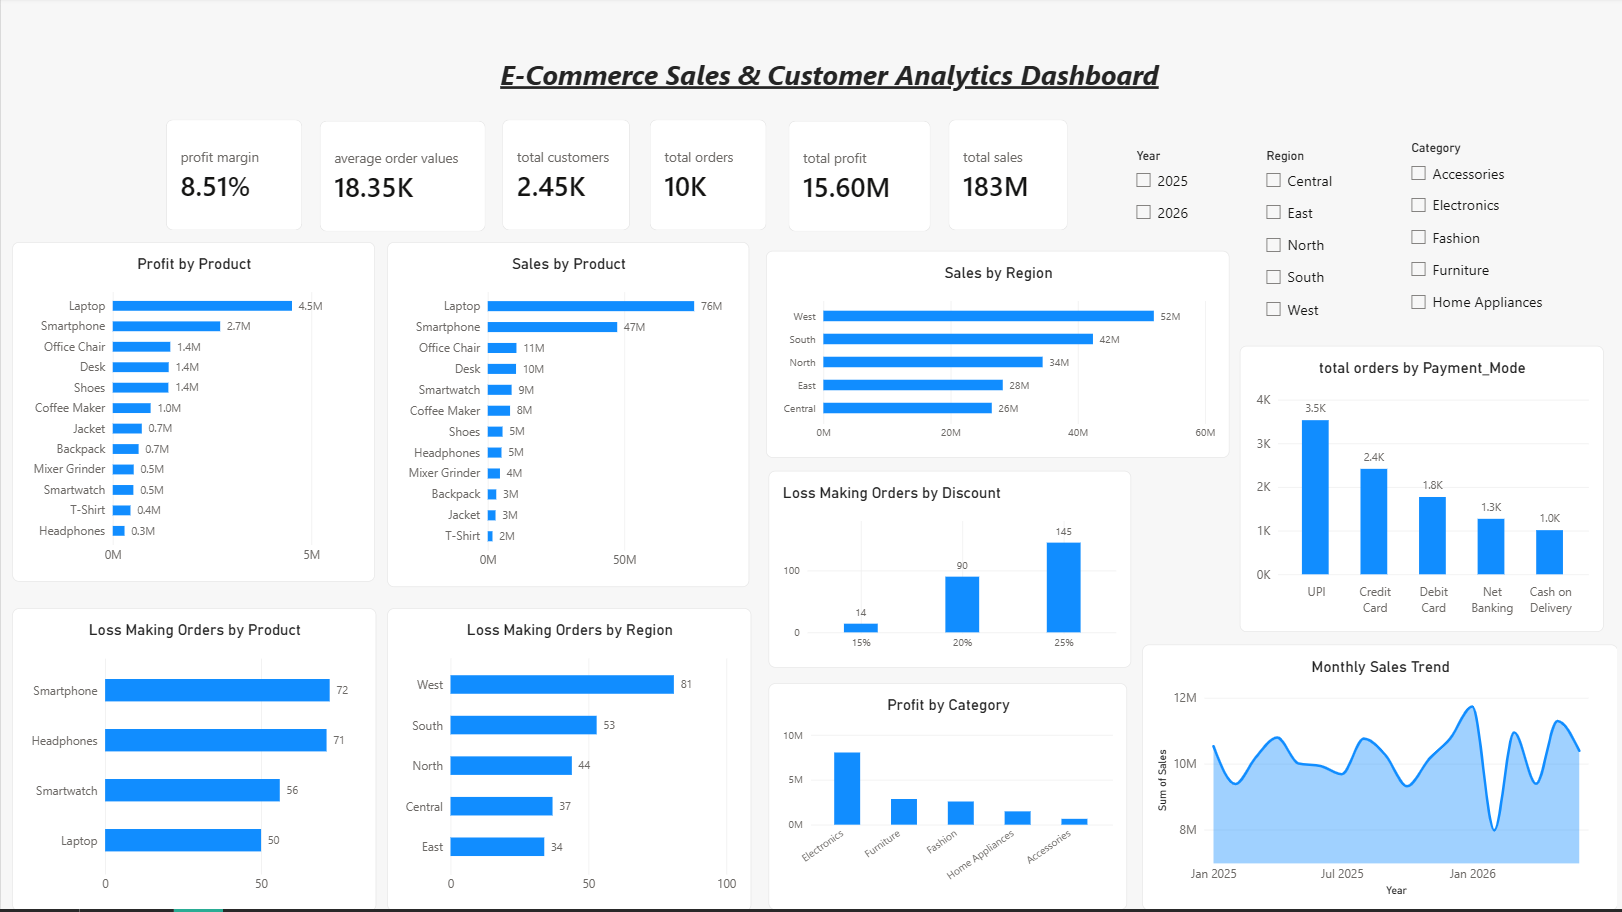

This screenshot's page, from the dashboard's own definition file:
{"tool":"powerbi","page":{"name":"Page 1","canvas":[1920,1080],"ordinal":0},"visuals":[{"type":"cardVisual","fields":{"Data":["measures_.total_customers"]},"box":[593.3,145,151.7,131.7],"z":0},{"type":"cardVisual","fields":{"Data":["measures_.total_orders"]},"box":[766.7,145,138.3,131.7],"z":1000},{"type":"cardVisual","fields":{"Data":["measures_.total_average_values"]},"box":[376.7,146.7,196.7,131.7],"z":2000},{"type":"cardVisual","fields":{"Data":["measures_.profit_margin"]},"box":[195,145,161.7,131.7],"z":3000},{"type":"cardVisual","fields":{"Data":["measures_.total_profit"]},"box":[931.7,146.7,168.3,131.7],"z":4000},{"type":"cardVisual","fields":{"Data":["measures_.total_sales"]},"box":[1120,145,141.7,131.7],"z":5000},{"type":"lineChart","title":"Monthly Sales Trend","fields":{"Category":["ecommerce_sales_cleaned2.Order_Date.Variation.Date Hierarchy.Year","ecommerce_sales_cleaned2.Order_Date.Variation.Date Hierarchy.Month"],"Y":["Sum(ecommerce_sales_cleaned2.Sales)"]},"box":[1350,766,562,314],"z":6000},{"type":"clusteredBarChart","title":" Sales by Region","fields":{"Category":["ecommerce_sales_cleaned2.Region"],"Y":["Sum(ecommerce_sales_cleaned2.Sales)"]},"box":[904,300,548.3,245],"z":7000},{"type":"clusteredBarChart","title":"Sales by Product","fields":{"Category":["ecommerce_sales_cleaned2.Product"],"Y":["Sum(ecommerce_sales_cleaned2.Sales)"]},"box":[456,290,428,408],"z":8000},{"type":"clusteredColumnChart","title":" Profit by Category","fields":{"Category":["ecommerce_sales_cleaned2.Category"],"Y":["Sum(ecommerce_sales_cleaned2.Profit)"]},"box":[908,812,424,268],"z":9000},{"type":"clusteredBarChart","title":"Profit by Product","fields":{"Category":["ecommerce_sales_cleaned2.Product"],"Y":["Sum(ecommerce_sales_cleaned2.Profit)"]},"box":[14,290,428.8,401.2],"z":10000},{"type":"clusteredColumnChart","fields":{"Category":["ecommerce_sales_cleaned2.Payment_Mode"],"Y":["measures_.total_orders"]},"box":[1464,412,430,338],"z":11000},{"type":"clusteredBarChart","fields":{"Category":["ecommerce_sales_cleaned2.Product"],"Y":["measures_.Loss Making Orders"]},"box":[14,722,430,358],"z":12000},{"type":"clusteredBarChart","fields":{"Category":["ecommerce_sales_cleaned2.Region"],"Y":["measures_.Loss Making Orders"]},"box":[456,722,430,358],"z":13000},{"type":"clusteredColumnChart","fields":{"Category":["ecommerce_sales_cleaned2.Discount"],"Y":["measures_.Loss Making Orders"]},"box":[908,560,428.6,232.9],"z":14000},{"type":"slicer","fields":{"Values":["ecommerce_sales_cleaned2.Order_Date.Variation.Date Hierarchy.Year"]},"box":[1335,178.3,150,118.6],"z":15000},{"type":"slicer","fields":{"Values":["ecommerce_sales_cleaned2.Region"]},"box":[1488.3,178.3,150,233],"z":16000},{"type":"slicer","fields":{"Values":["ecommerce_sales_cleaned2.Category"]},"box":[1660,170,200,253.3],"z":17000},{"type":"textbox","box":[404,70,1152,60],"z":18000}]}

Visuals, with their boxes in screenshot pixels (x1, y1, x2, y2), scaled from the page's 1920x1080 canvas onto the 1622x912 screenshot:
cardVisual - measures_.total_customers: [501,122,629,234]
cardVisual - measures_.total_orders: [648,122,765,234]
cardVisual - measures_.total_average_values: [318,124,484,235]
cardVisual - measures_.profit_margin: [165,122,301,234]
cardVisual - measures_.total_profit: [787,124,929,235]
cardVisual - measures_.total_sales: [946,122,1066,234]
"Monthly Sales Trend" lineChart: [1140,647,1615,911]
" Sales by Region" clusteredBarChart: [764,253,1227,460]
"Sales by Product" clusteredBarChart: [385,245,747,589]
" Profit by Category" clusteredColumnChart: [767,686,1125,911]
"Profit by Product" clusteredBarChart: [12,245,374,584]
clusteredColumnChart - ecommerce_sales_cleaned2.Payment_Mode x measures_.total_orders: [1237,348,1600,633]
clusteredBarChart - ecommerce_sales_cleaned2.Product x measures_.Loss Making Orders: [12,610,375,911]
clusteredBarChart - ecommerce_sales_cleaned2.Region x measures_.Loss Making Orders: [385,610,748,911]
clusteredColumnChart - ecommerce_sales_cleaned2.Discount x measures_.Loss Making Orders: [767,473,1129,670]
slicer - ecommerce_sales_cleaned2.Order_Date.Variation.Date Hierarchy.Year: [1128,151,1255,251]
slicer - ecommerce_sales_cleaned2.Region: [1257,151,1384,347]
slicer - ecommerce_sales_cleaned2.Category: [1402,144,1571,357]
textbox: [341,59,1314,110]
